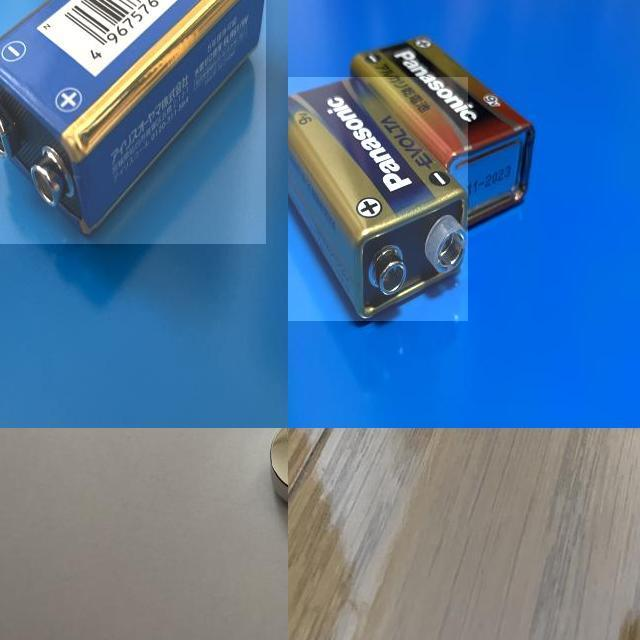9V: (0, 0, 266, 244), (288, 77, 468, 321), (347, 36, 534, 228)
